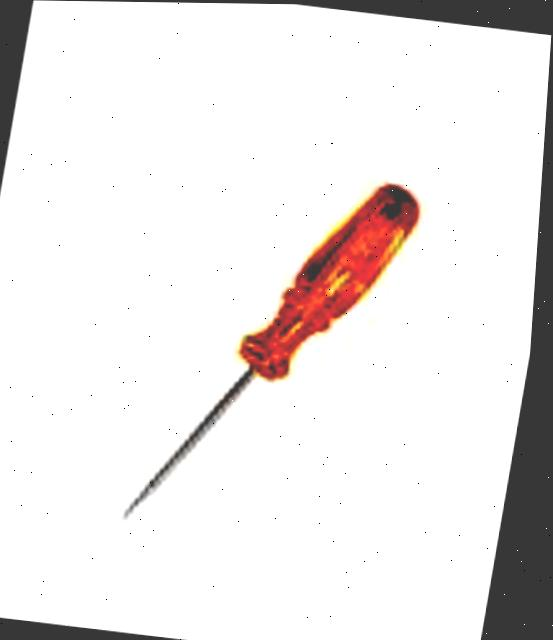ice pick: (125, 162, 425, 549)
